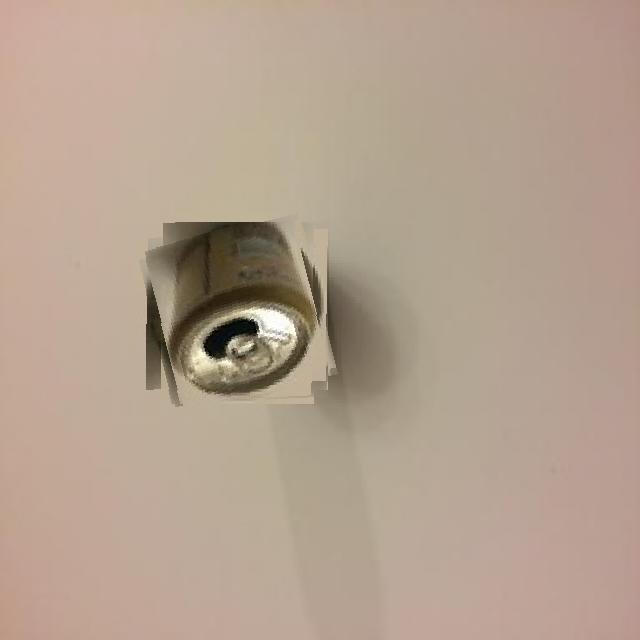recyclable: (146, 222, 330, 406)
